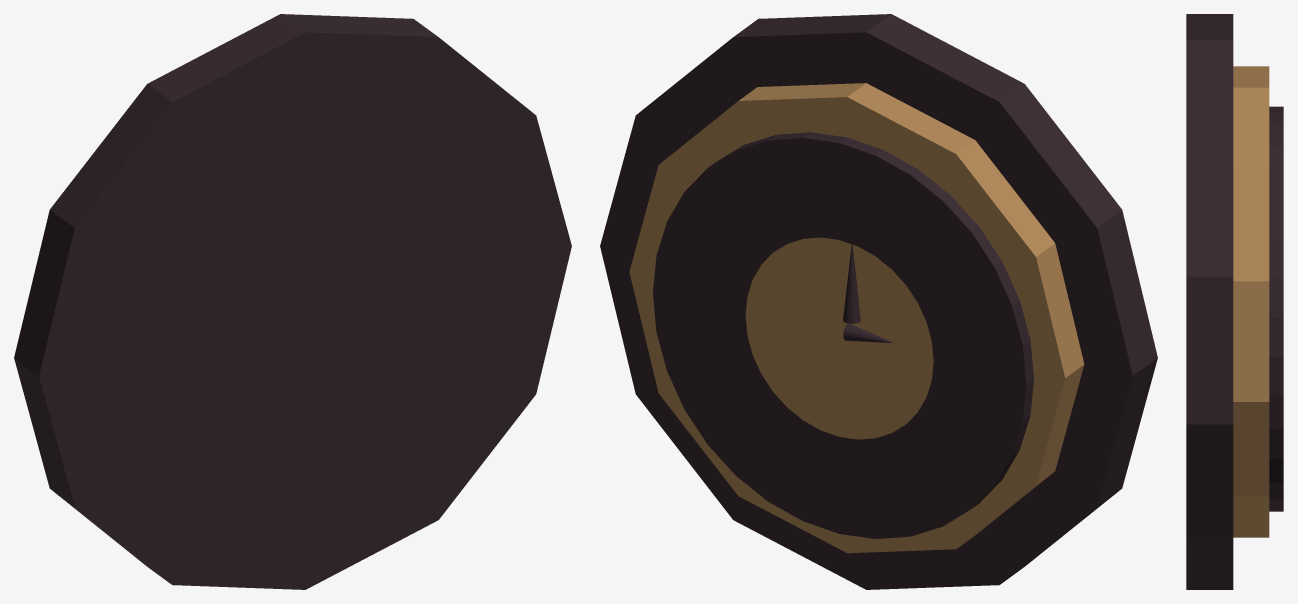
File: LCrelogio.fbx
3 renders of one model, left to right at view 1: azimuth 30°, elevation 25°; view 2: azimuth 150°, elevation 25°; view 3: azimuth 270°, elevation 25°, orthographic. The views are drawn at different scales.
Visible parts, largest first — view 1: Cylinder.011; view 2: Cylinder.011; view 3: Cylinder.011.
Part boxes in pixels (box(x1,y1,x2,y2)): Cylinder.011: box(14, 14, 571, 589); Cylinder.011: box(600, 14, 1157, 589); Cylinder.011: box(1186, 14, 1283, 589).
Size of the model in its own units: 254 by 254 by 42.8.
